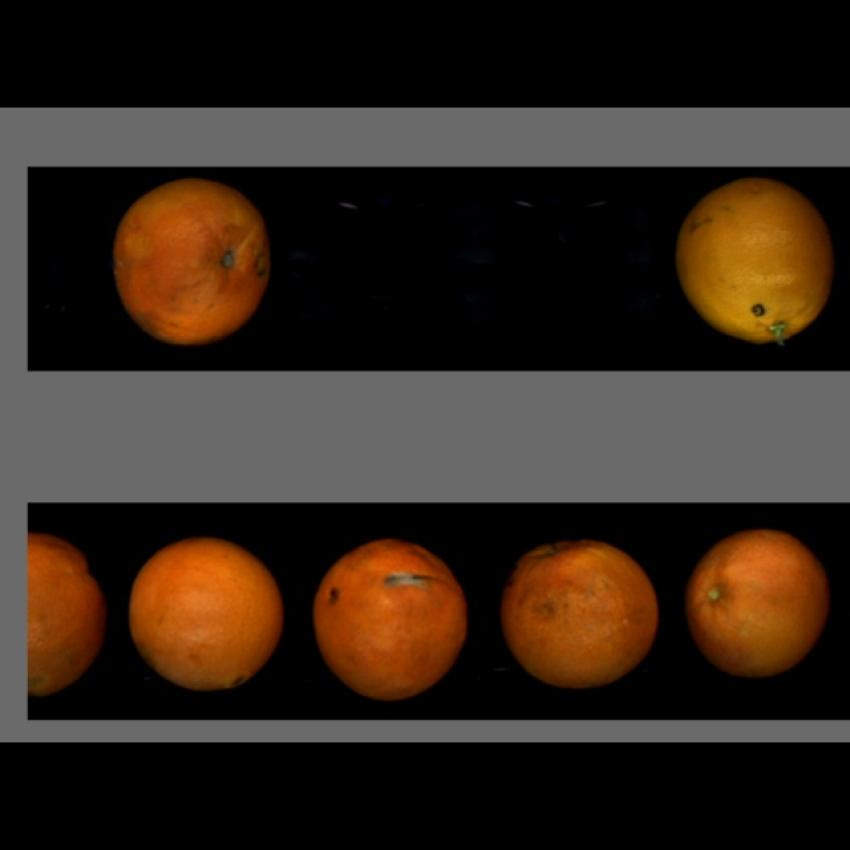Buen estado: (124, 528, 290, 696)
Mal estado: (674, 173, 836, 348), (491, 532, 669, 690), (114, 174, 278, 345), (311, 538, 474, 698), (680, 528, 838, 679), (29, 529, 107, 703)
